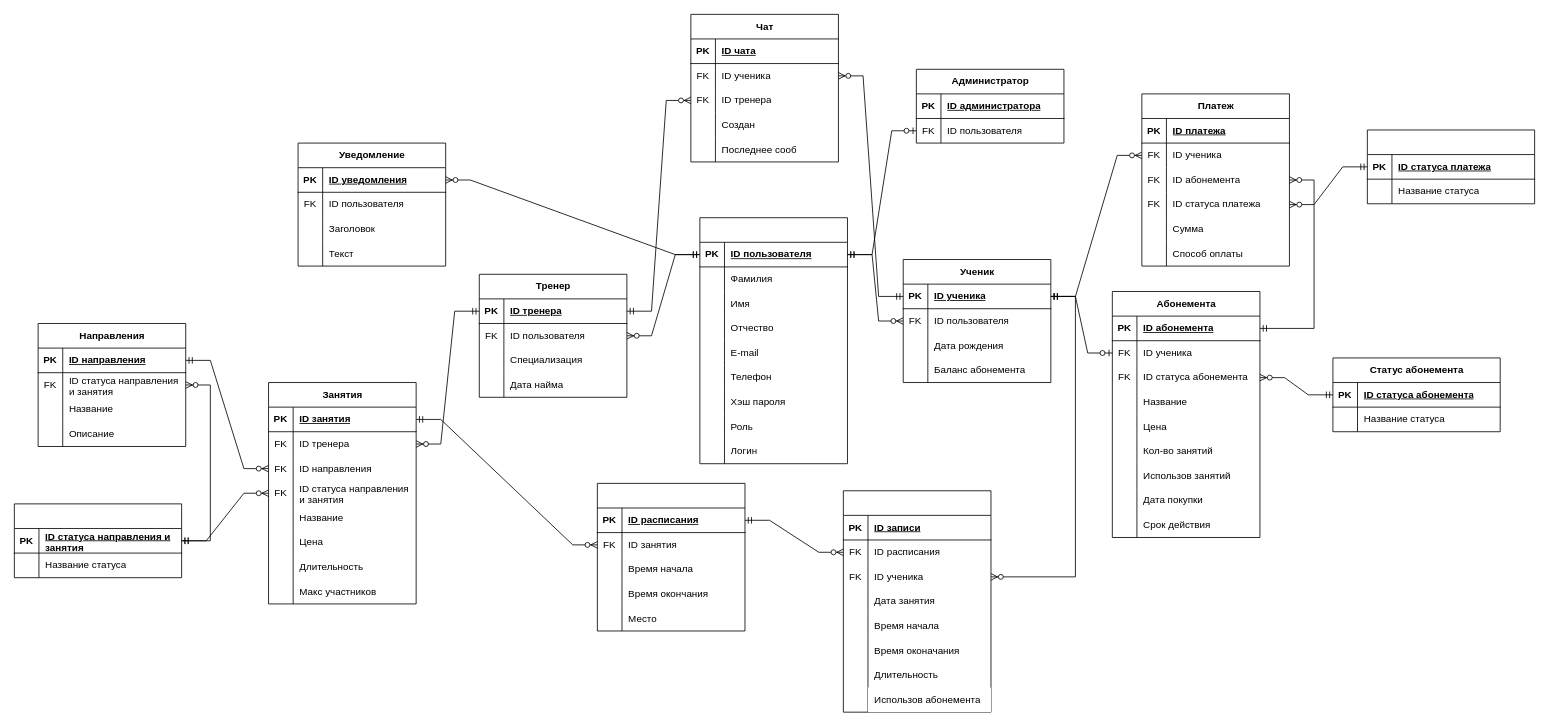
The diagram is 1549 pixels wide and 727 high, and some of its shapes have lost their labels. Here are the shapes that lost their labels. From the top down, the box of each, then its label:
(1367, 129, 1535, 204): Статус платежа
(699, 217, 847, 464): Пользователь
(14, 503, 182, 578): Статус направления и занятия
(597, 483, 745, 631): Расписание
(843, 490, 991, 712): Запись
